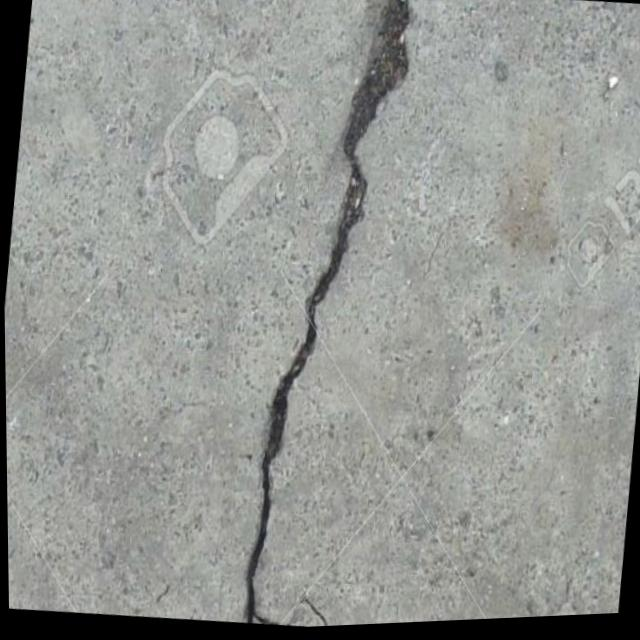Crack: (227, 0, 437, 632)
